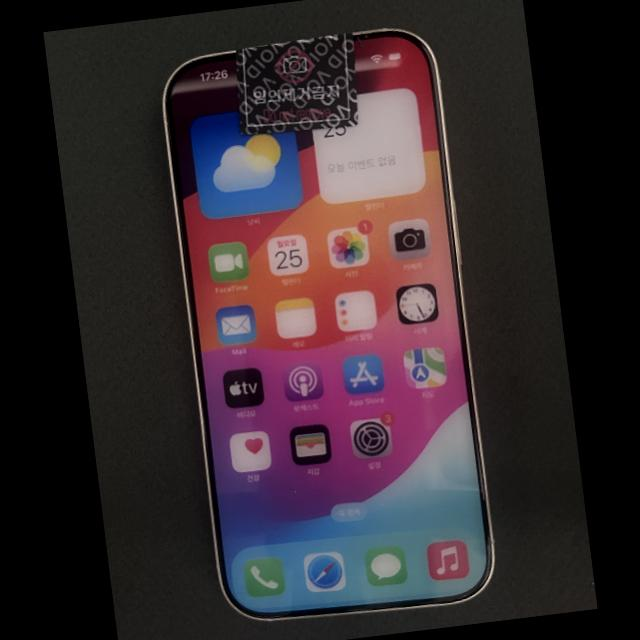phone: (164, 30, 493, 618)
sticker: (235, 31, 358, 135)
